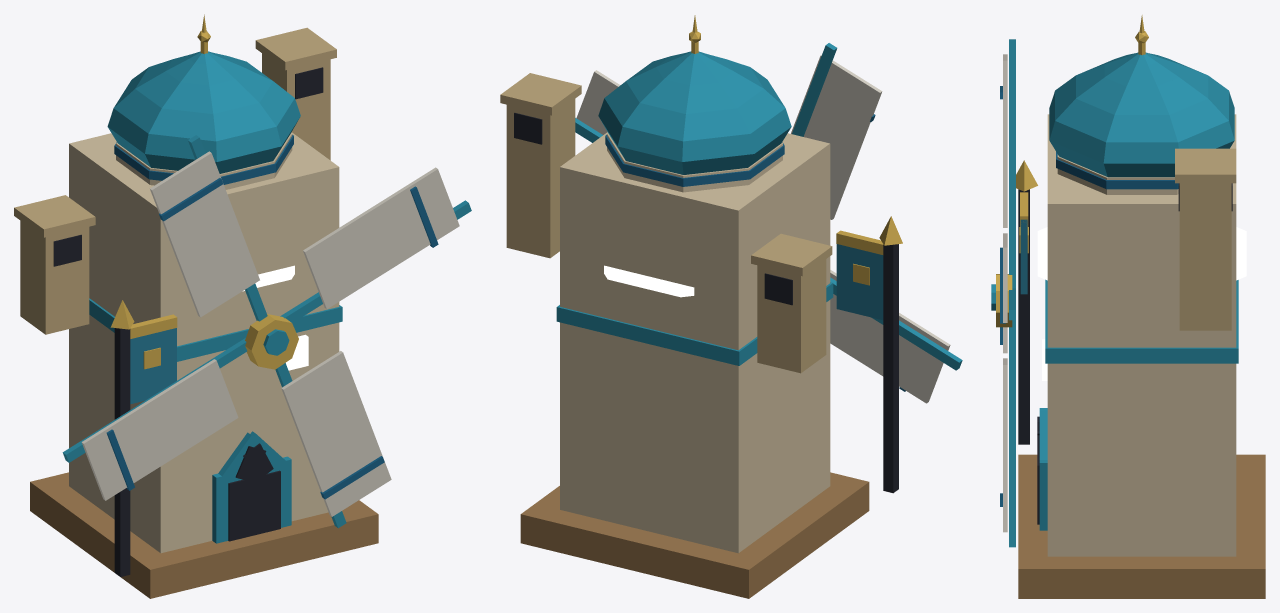
File: mill_t3.glb
3 renders of one model, left to right at view 1: azimuth 30°, elevation 25°; view 2: azimuth 150°, elevation 25°; view 3: azimuth 270°, elevation 25°, orthographic. The views are drawn at different scales.
Visible parts, largest first — view 1: body, part_rotor, glow; view 2: body, part_rotor, glow; view 3: body, part_rotor, glow.
Part boxes in pixels (bbox=[...]): body: bbox=[14, 14, 378, 598]; part_rotor: bbox=[62, 135, 471, 528]; glow: bbox=[242, 265, 308, 370]; body: bbox=[500, 15, 902, 598]; part_rotor: bbox=[575, 43, 962, 403]; glow: bbox=[604, 265, 694, 297]; body: bbox=[1016, 15, 1265, 598]; part_rotor: bbox=[991, 39, 1015, 547]; glow: bbox=[1037, 227, 1246, 380].
Size of the model in its own units: 2.04 by 2.47 by 1.16.
